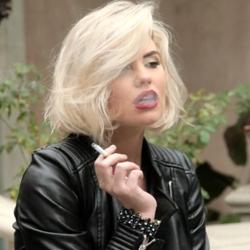smoking: (89, 139, 154, 211)
